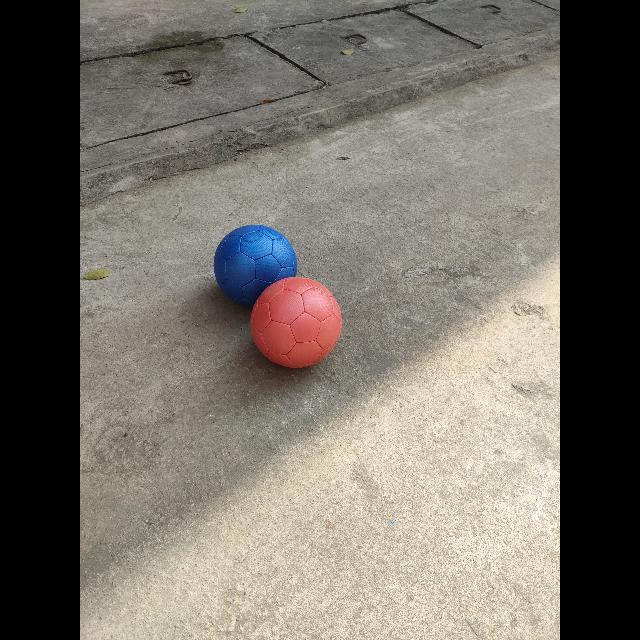B: (214, 225, 298, 306)
R: (251, 276, 341, 368)
